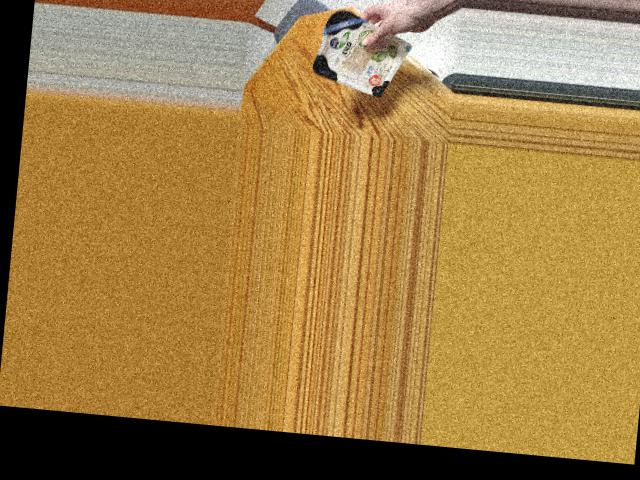cheese: (308, 5, 399, 96)
